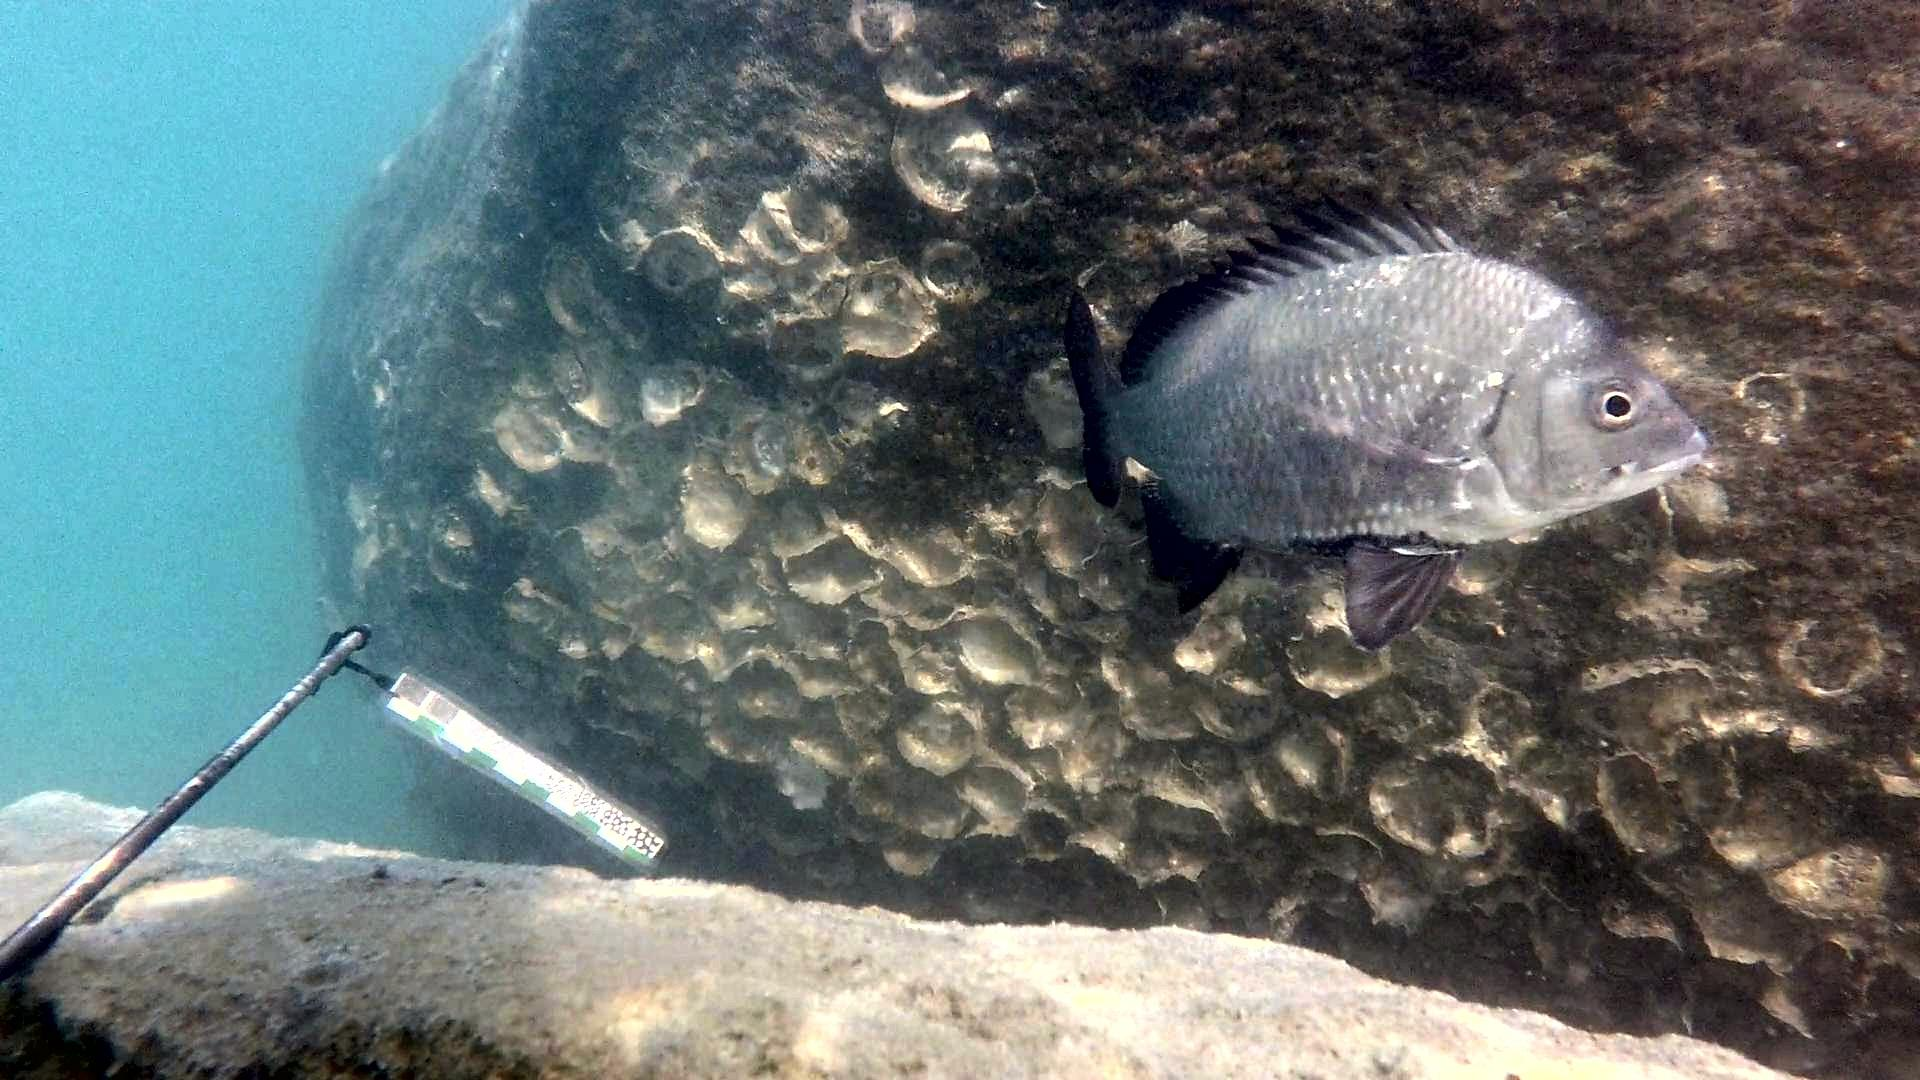acanthopagrus palmaris: (1051, 183, 1714, 654)
